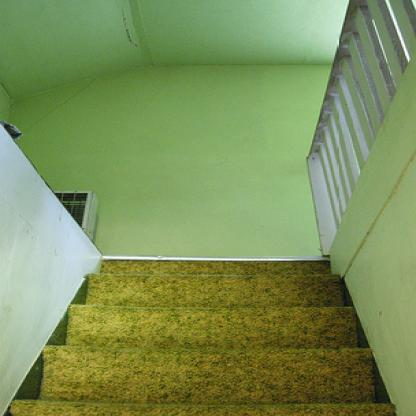stairs: (101, 274, 329, 416)
